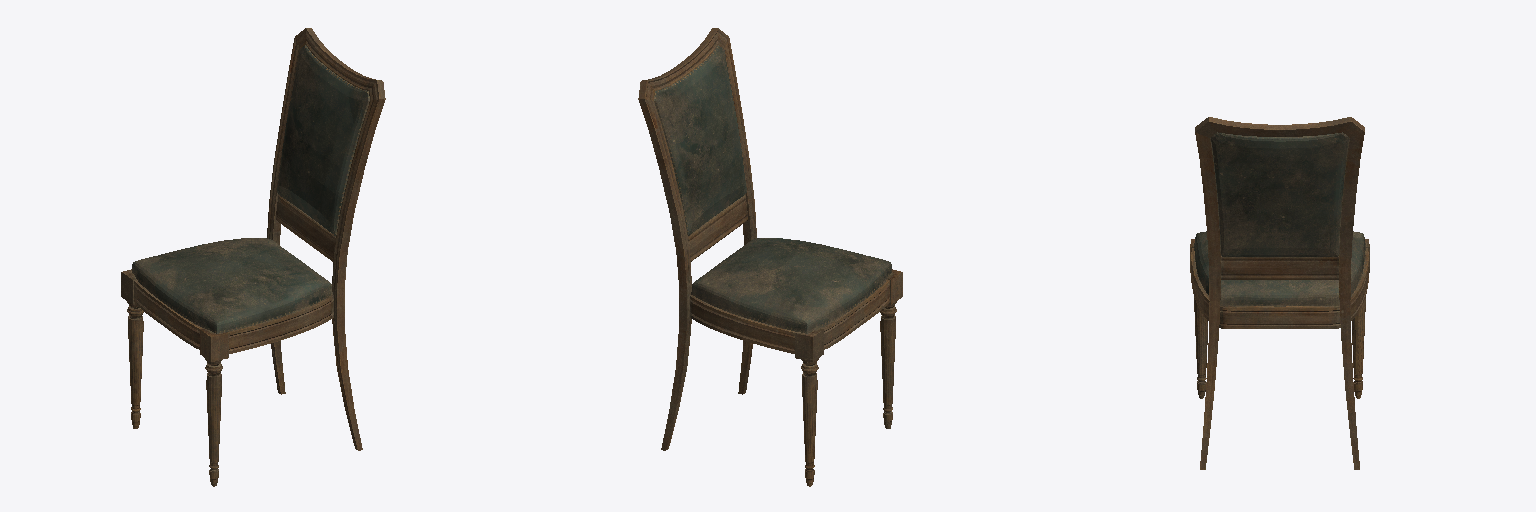
3 views of the same model, side by side, from view 1: azimuth 30°, elevation 25°; view 2: azimuth 150°, elevation 25°; view 3: azimuth 270°, elevation 25° (orthographic).
Parts seen in each view (by area): view 1: Object_M_Chair_01; view 2: Object_M_Chair_01; view 3: Object_M_Chair_01.
Part boxes in pixels (bbox=[...]): Object_M_Chair_01: bbox=[121, 28, 385, 486]; Object_M_Chair_01: bbox=[638, 28, 902, 486]; Object_M_Chair_01: bbox=[1190, 117, 1369, 469].
Bounding box in the file's own units: 1.32 × 2.5 × 1.12.
1 materials, 1 textured.